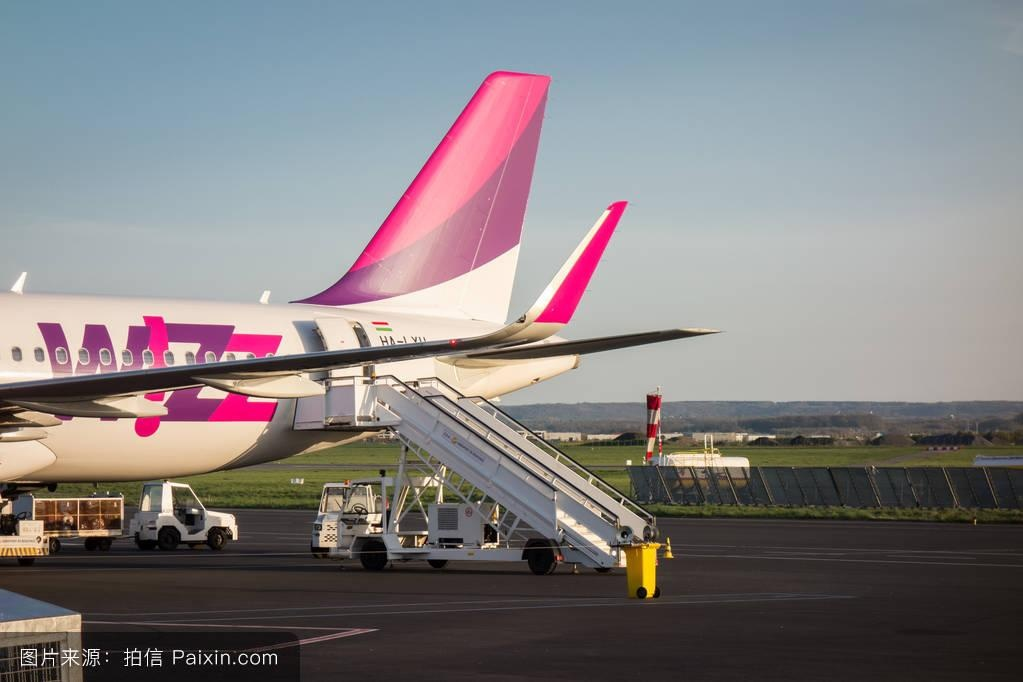airplane: (1, 67, 729, 492)
